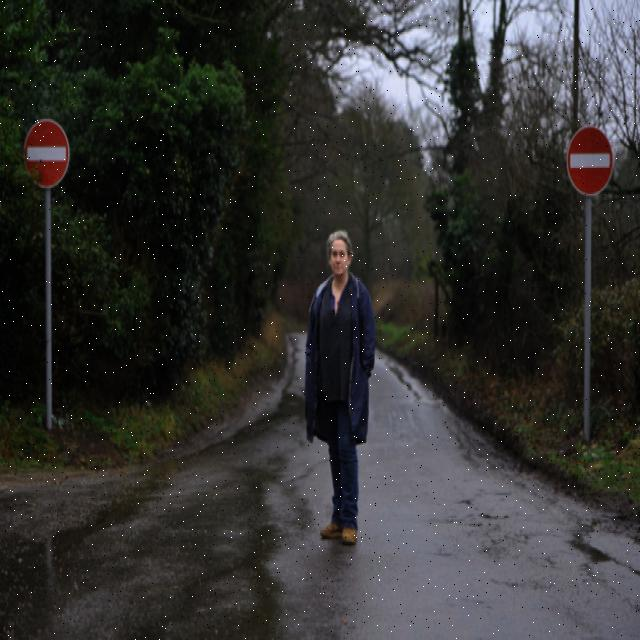no entry: (566, 125, 613, 196), (23, 119, 69, 190)
